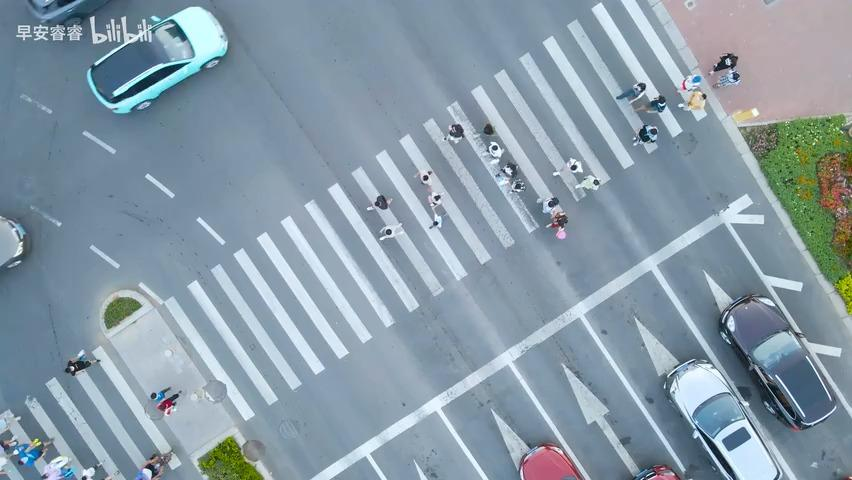Civilian: (17, 437, 53, 466), (144, 386, 171, 419), (134, 453, 164, 479), (426, 188, 444, 229), (708, 52, 738, 75), (64, 357, 100, 376), (156, 390, 182, 415), (0, 437, 18, 473), (677, 90, 707, 111), (615, 81, 646, 101), (552, 157, 583, 176), (712, 67, 740, 88), (81, 460, 111, 479), (632, 124, 658, 145), (378, 221, 403, 241), (25, 437, 53, 454), (545, 210, 568, 230), (676, 74, 701, 92), (574, 174, 600, 191), (366, 194, 392, 211), (536, 196, 559, 214), (443, 123, 464, 142), (149, 386, 171, 401), (648, 94, 666, 112), (427, 188, 444, 206), (413, 168, 432, 184), (500, 161, 519, 177), (566, 157, 583, 173), (488, 141, 504, 158), (0, 437, 18, 451), (509, 178, 526, 192), (428, 213, 442, 229), (483, 123, 494, 134), (76, 349, 86, 361)
